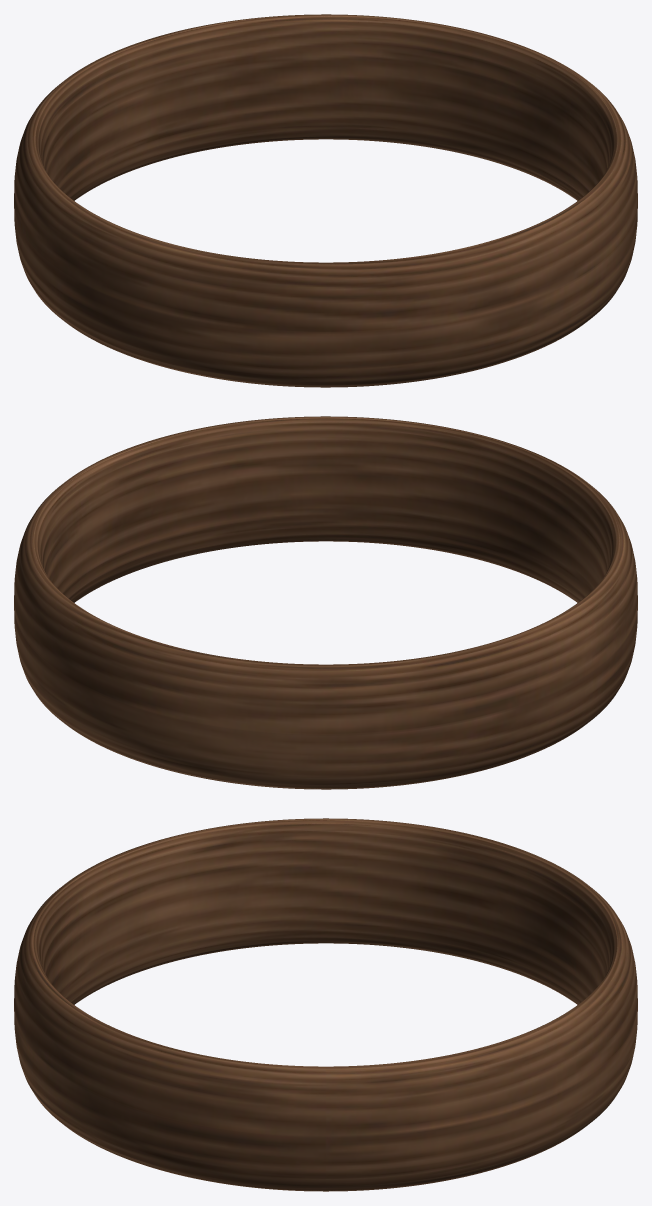
File: orzech.glb
The picture shows the model from 3 angles, top to bottom: view 1: azimuth 30°, elevation 25°; view 2: azimuth 150°, elevation 25°; view 3: azimuth 270°, elevation 25°; orthographic projection.
Visible parts, largest first — view 1: obrecz; view 2: obrecz; view 3: obrecz.
Boxes of the visible parts, bbox=[...] form: obrecz: bbox=[14, 14, 637, 387]; obrecz: bbox=[14, 416, 637, 789]; obrecz: bbox=[14, 818, 637, 1191].
Bounding box in the file's own units: 6.82 × 1.5 × 6.82.
1 material, 1 textured.
